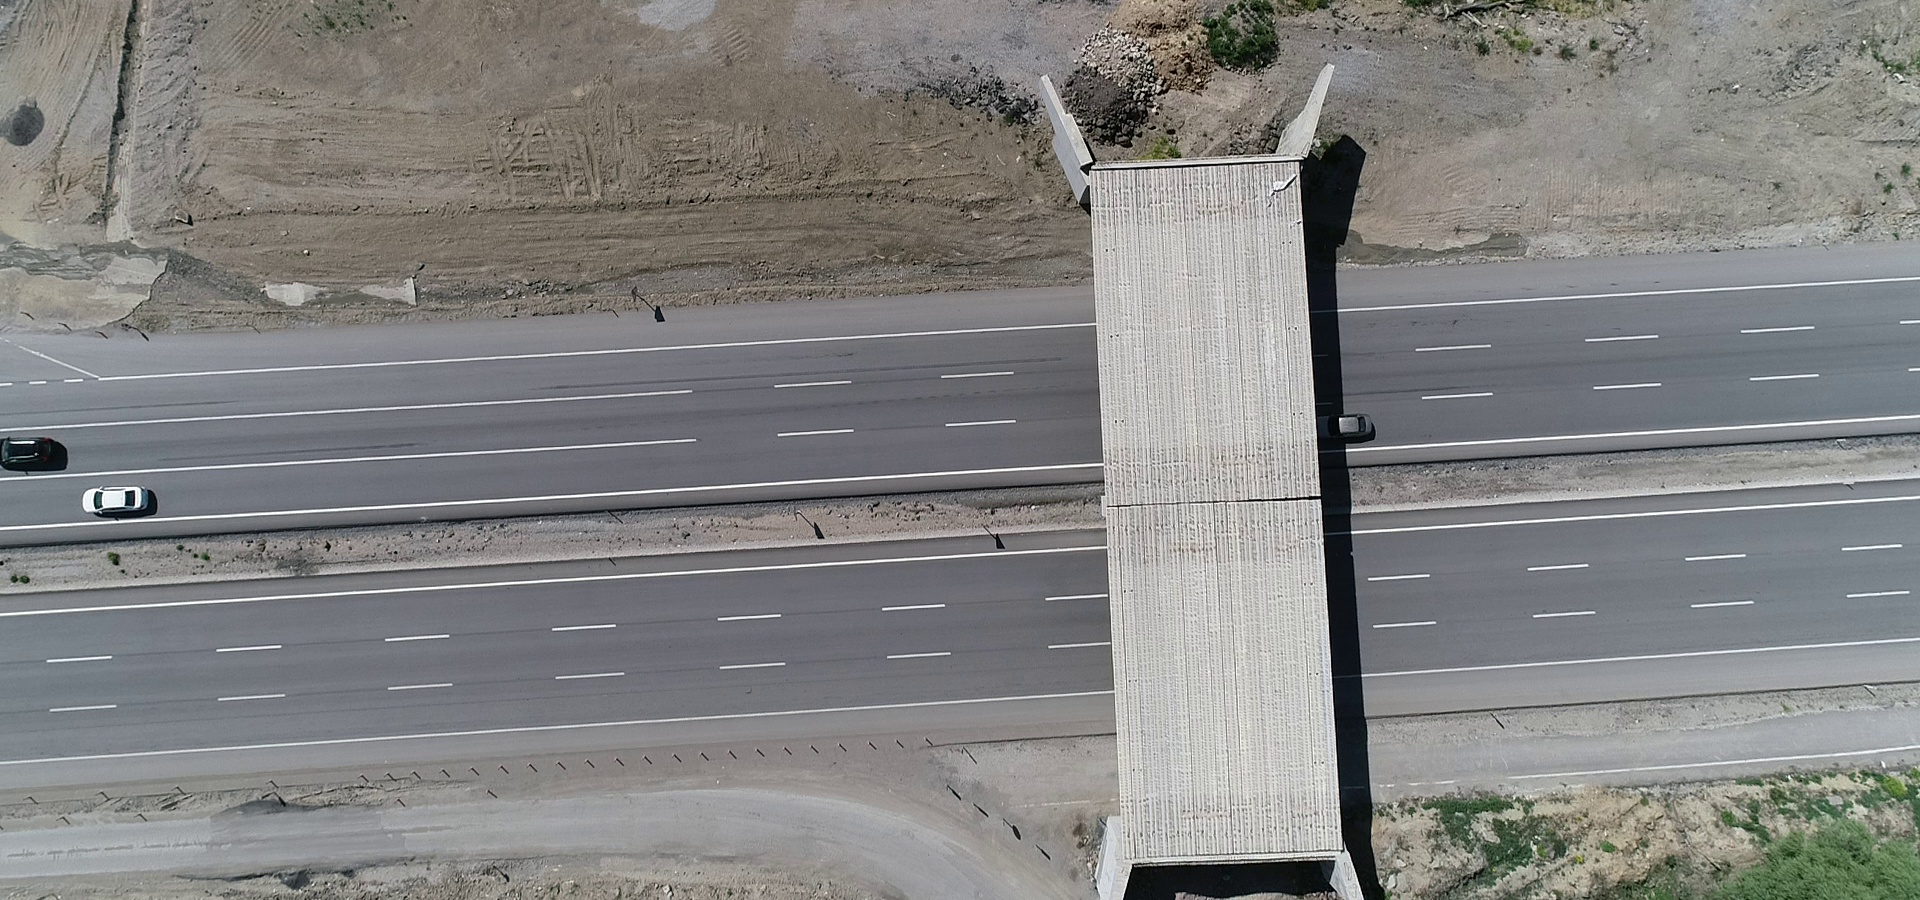arac: (80, 476, 157, 520), (1, 431, 71, 469), (1319, 410, 1385, 442)
